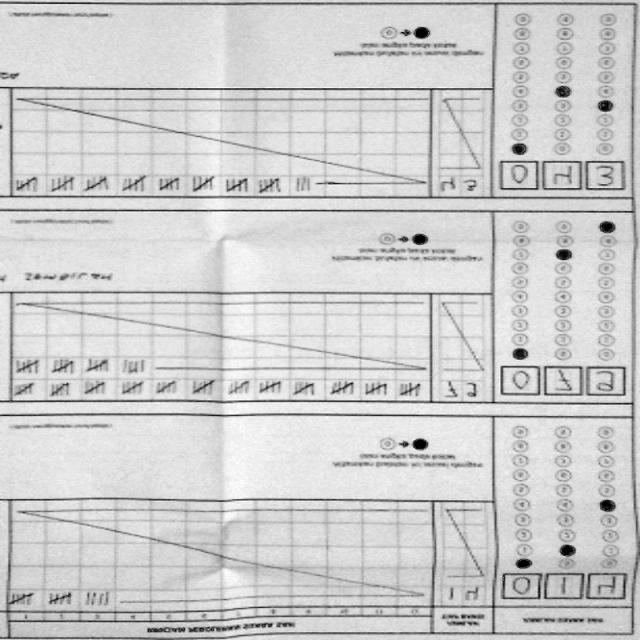Suara: (497, 158, 627, 198), (495, 366, 630, 402), (496, 572, 630, 606)
